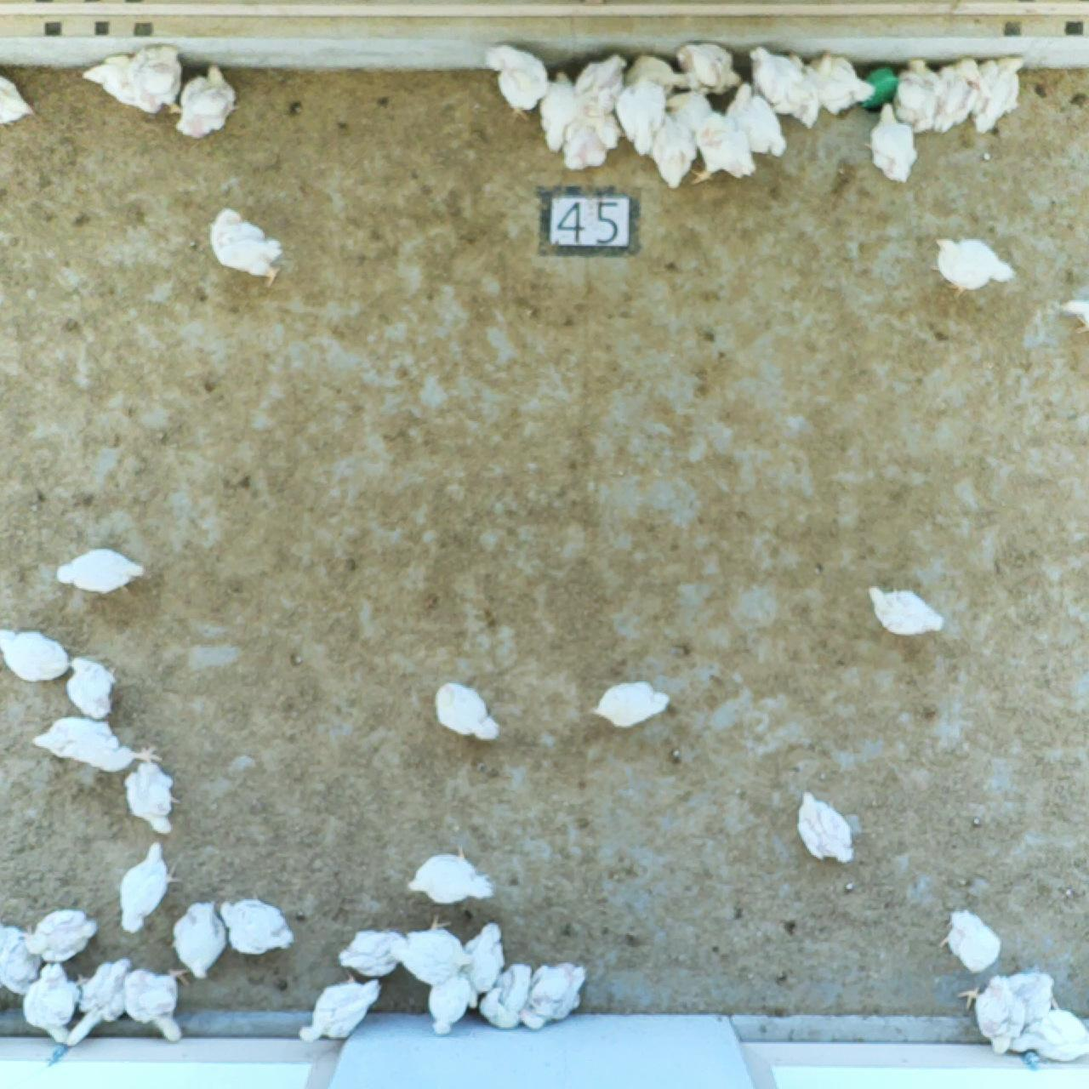chicken: (32, 716, 175, 773), (857, 578, 951, 647), (744, 44, 818, 127), (48, 546, 153, 603), (209, 206, 282, 287), (427, 677, 509, 748), (790, 784, 855, 873), (116, 835, 175, 933), (294, 978, 379, 1045), (124, 967, 195, 1047), (938, 226, 1013, 301), (962, 969, 1027, 1054), (123, 756, 187, 841), (390, 919, 475, 983), (411, 847, 497, 910), (21, 964, 81, 1051), (172, 65, 239, 142), (809, 51, 887, 117), (721, 83, 793, 154), (168, 899, 229, 980), (611, 79, 674, 156), (72, 961, 134, 1037), (590, 676, 670, 734), (487, 37, 547, 114), (694, 110, 755, 185), (3, 625, 72, 690), (18, 910, 103, 961), (528, 966, 596, 1028), (476, 967, 538, 1034), (216, 898, 294, 951), (868, 105, 919, 184), (421, 972, 485, 1034), (944, 904, 1001, 973), (647, 115, 696, 195), (938, 50, 983, 136), (1026, 1006, 1086, 1069), (134, 47, 185, 121), (66, 650, 115, 725), (674, 39, 740, 93), (979, 57, 1025, 134), (891, 63, 940, 135), (465, 917, 506, 999), (534, 72, 576, 148), (342, 930, 408, 977), (86, 57, 143, 111), (625, 48, 693, 91), (2, 924, 41, 997), (1007, 964, 1058, 1019), (578, 60, 626, 117), (667, 86, 717, 133), (1, 70, 34, 134), (567, 111, 602, 170), (1058, 284, 1089, 344), (913, 51, 944, 100), (590, 102, 622, 145)
